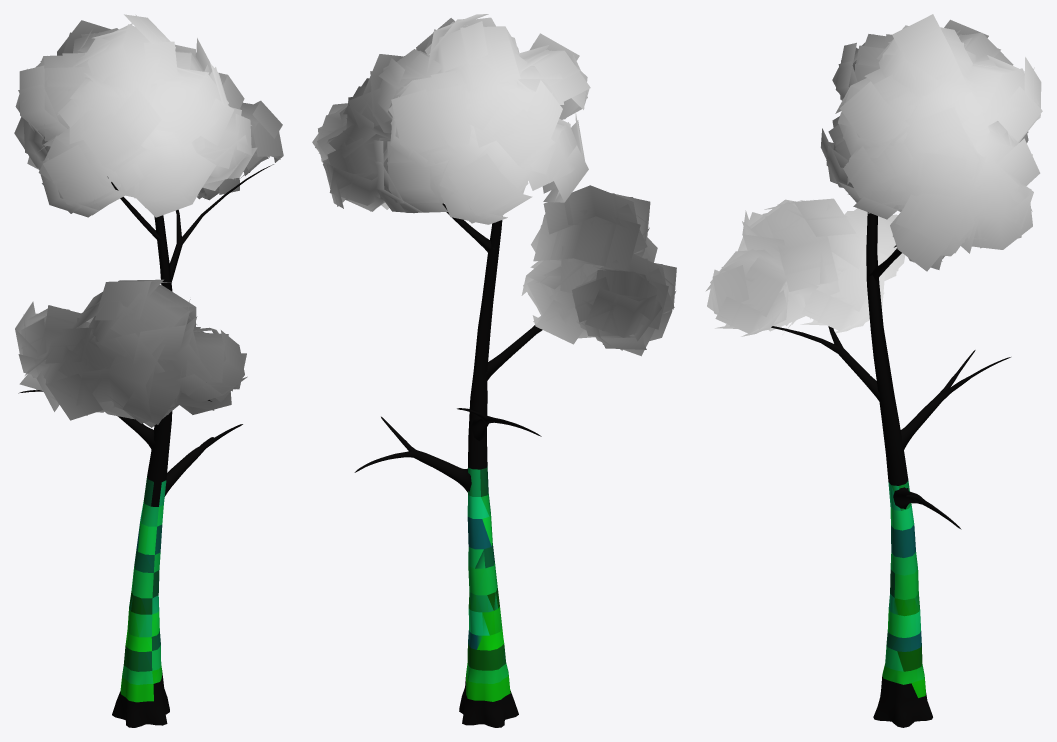
The model's file is SM_tree_maple_03.fbx.
3 renders of one model, left to right at view 1: azimuth 30°, elevation 25°; view 2: azimuth 150°, elevation 25°; view 3: azimuth 270°, elevation 25°, orthographic. The views are drawn at different scales.
Visible parts, largest first — view 1: tree_a_02; view 2: tree_a_02; view 3: tree_a_02.
Part boxes in pixels (x1=…): tree_a_02: x1=14, y1=14, x2=283, y2=727; tree_a_02: x1=312, y1=14, x2=676, y2=727; tree_a_02: x1=705, y1=14, x2=1042, y2=727.
Size of the model in its own units: 114 by 257 by 113.
